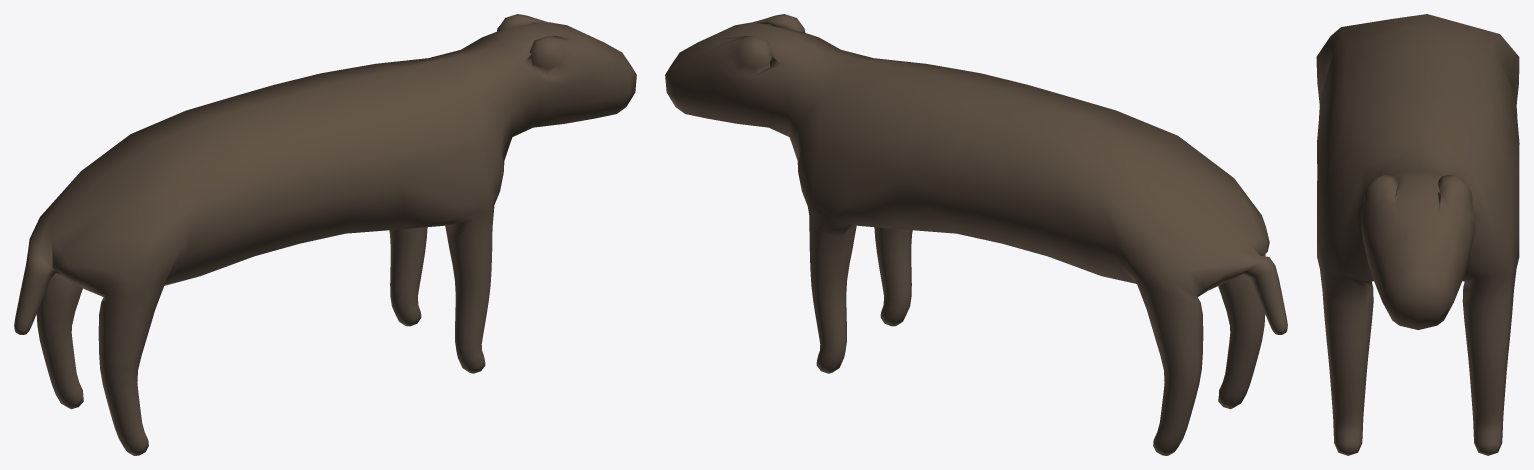
Rendered from warthog.glb.
The picture shows the model from 3 angles, left to right: view 1: azimuth 30°, elevation 25°; view 2: azimuth 150°, elevation 25°; view 3: azimuth 270°, elevation 25°; orthographic projection. The views are drawn at different scales.
Parts seen in each view (by area): view 1: warthog; view 2: warthog; view 3: warthog.
Part boxes in pixels (<box>): warthog: <box>14,14,636,455</box>; warthog: <box>665,14,1287,455</box>; warthog: <box>1316,14,1519,455</box>.
Bounding box in the file's own units: 1.85 × 0.8599 × 0.4856.
